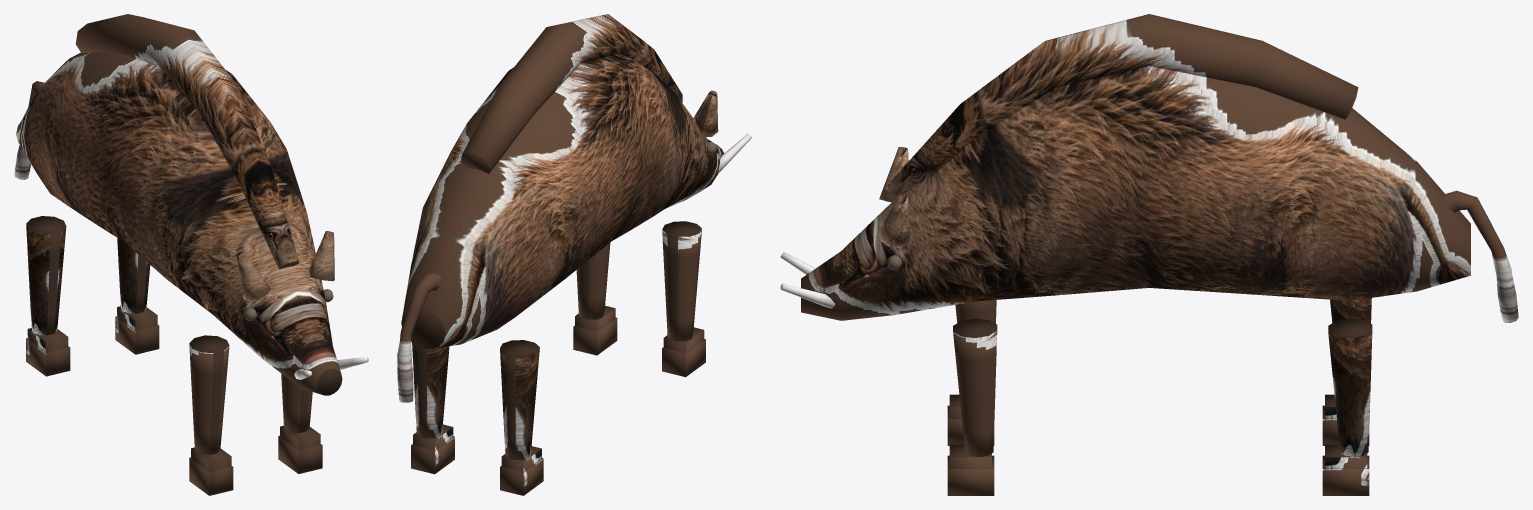
The model's file is boar.glb.
The picture shows the model from 3 angles, left to right: view 1: azimuth 30°, elevation 25°; view 2: azimuth 150°, elevation 25°; view 3: azimuth 270°, elevation 25°; orthographic projection. The views are drawn at different scales.
Parts seen in each view (by area): view 1: BoarBody, Mane, Leg.001, Leg.003, Leg, Leg.002, Ears, Hoof.003, Hoof, Hoof.002, Hoof.001, Tail (+1 smaller); view 2: BoarBody, Mane, Leg.003, Leg.001, Leg, Leg.002, Tail, Hoof.002, Hoof, Hoof.001, Hoof.003, Ears; view 3: BoarBody, Mane, Leg.002, Leg, Tail, Ears, Hoof, Hoof.002, Leg.001, Leg.003, Tusks.
Boxes of the visible parts, x1,y1,x2,y2 form: BoarBody: (16,52,342,395); Mane: (76,14,298,269); Leg.001: (26,216,68,352); Leg.003: (189,335,231,471); Leg: (117,238,157,330); Leg.002: (280,373,320,449); Ears: (236,231,334,301); Hoof.003: (189,457,233,495); Hoof: (115,316,159,354); Hoof.002: (278,435,322,473); Hoof.001: (26,338,70,376); Tail: (14,81,44,179); BoarBody: (401,53,724,349); Mane: (460,14,682,173); Leg.003: (662,221,704,352); Leg.001: (500,340,541,471); Leg: (412,343,453,449); Leg.002: (575,242,615,331); Tail: (397,272,441,402); Hoof.002: (573,317,617,355); Hoof: (411,436,454,474); Hoof.001: (500,457,543,495); Hoof.003: (662,339,705,377); Ears: (693,90,718,136); BoarBody: (801,66,1470,320); Mane: (885,14,1358,201); Leg.002: (949,318,997,468); Leg: (1325,318,1372,468); Tail: (1443,190,1518,322); Ears: (879,147,910,247); Hoof: (1322,455,1369,495); Hoof.002: (947,455,994,495); Leg.001: (1325,298,1371,418); Leg.003: (949,300,996,418); Tusks: (780,252,834,308).
Size of the model in its own units: 0.48 by 1.17 by 1.75.
4 materials, 2 textured.
